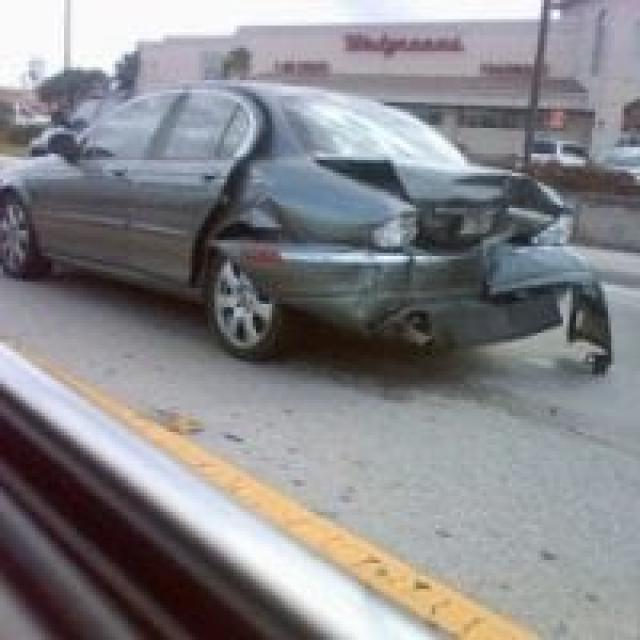crush: (188, 148, 612, 379)
